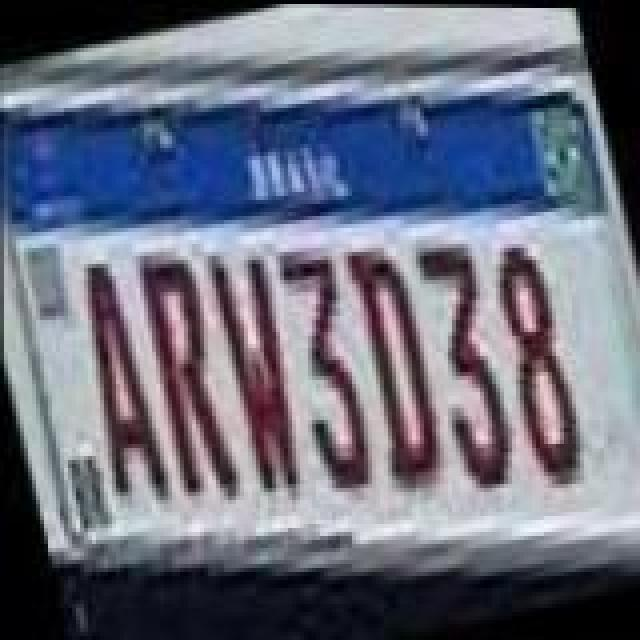3: (404, 226, 528, 502), (262, 240, 382, 504)
8: (480, 230, 596, 494)
A: (62, 254, 170, 510)
D: (334, 228, 454, 496)
R: (128, 236, 244, 508)
W: (200, 232, 316, 496)
